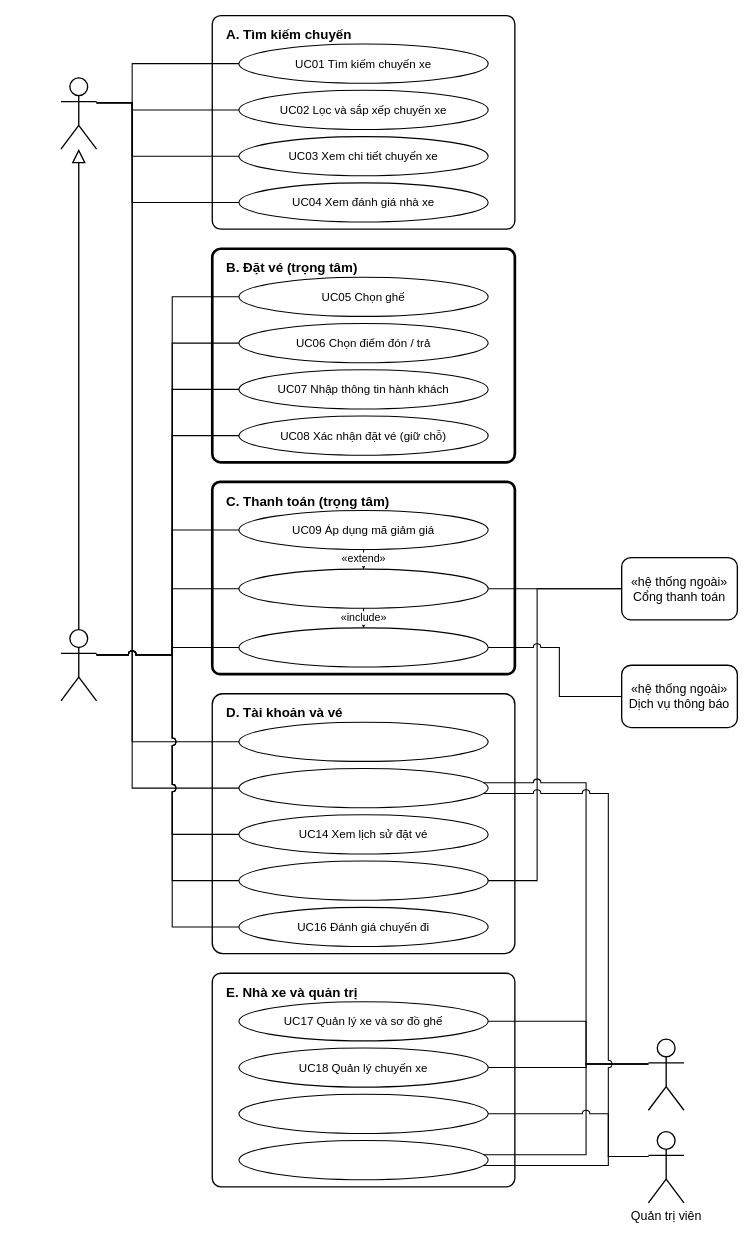
Image size: 754x1240. Some labels were removed from this diagram. Here are the shapes that lost their labels. From the top down, the centre of each, then its label:
pixel 78 113: Khách vãng lai
pixel 363 588: UC10 Thanh toán trực tuyến
pixel 78 665: Hành khách thành viên
pixel 363 647: UC11 Nhận vé điện tử
pixel 363 741: UC12 Đăng ký tài khoản
pixel 363 788: UC13 Đăng nhập
pixel 363 880: UC15 Hủy vé
pixel 665 1074: Nhà xe
pixel 363 1113: UC19 Quản lý nhà xe đối tác và mã giảm giá
pixel 363 1160: UC20 Thống kê doanh thu
